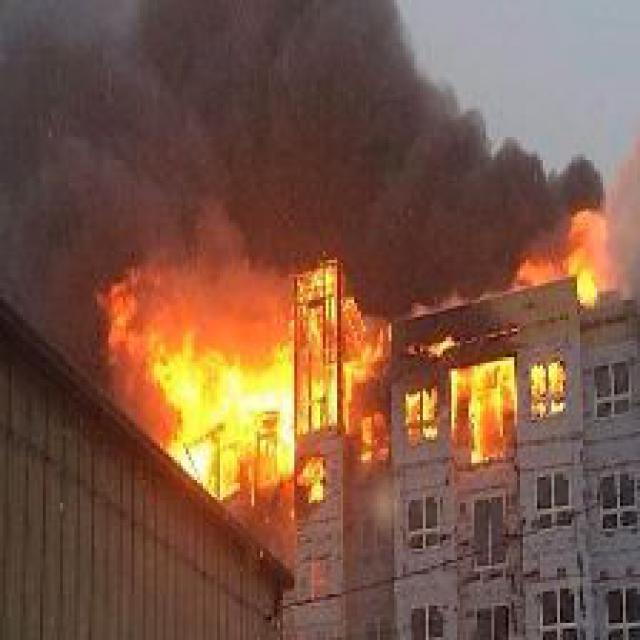fire: (80, 183, 403, 511), (514, 217, 626, 309), (448, 363, 523, 454)
